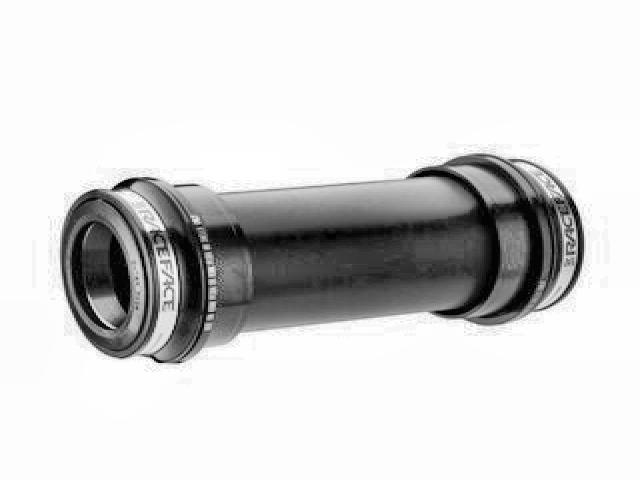bottom_bracket: (53, 149, 587, 366)
